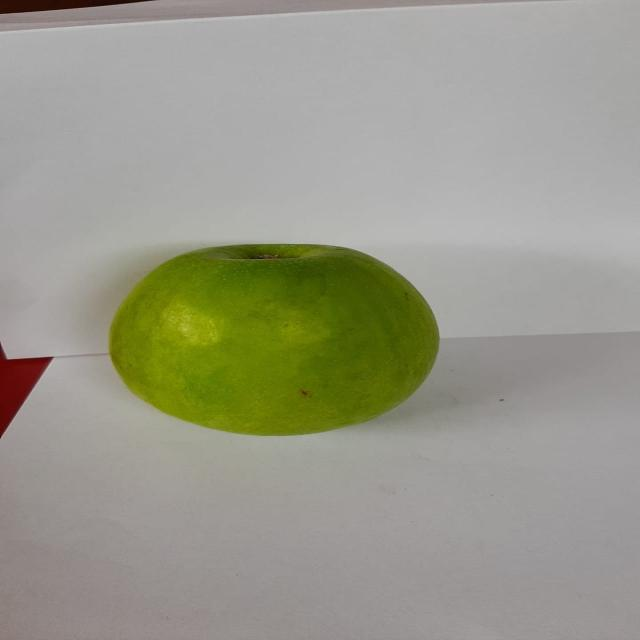50-_ripeness: (79, 233, 458, 444)
